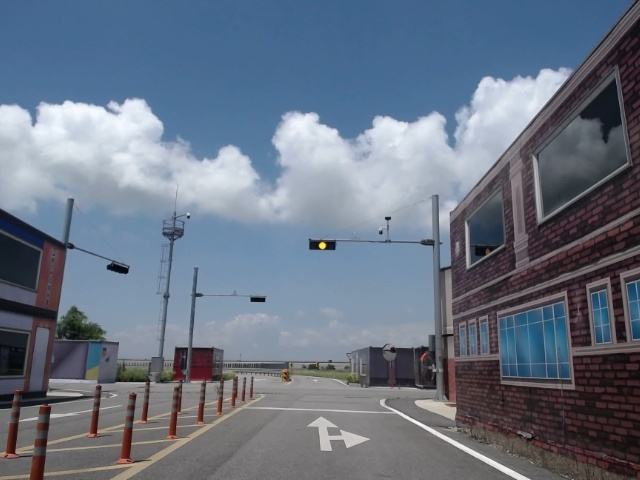orange_3: (309, 241, 338, 251)
